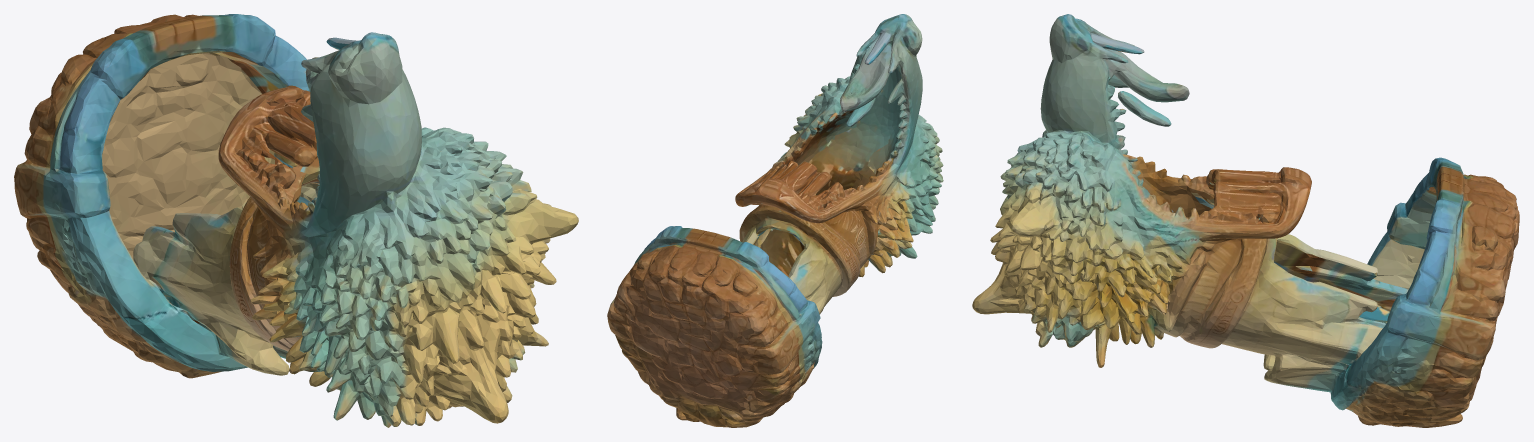
Rendered from wolf-of-winter-ashtray-fierce.glb.
3 renders of one model, left to right at view 1: azimuth 30°, elevation 25°; view 2: azimuth 150°, elevation 25°; view 3: azimuth 270°, elevation 25°, orthographic. The views are drawn at different scales.
Visible parts, largest first — view 1: wolf of winter ashtray fierce_textured.obj; view 2: wolf of winter ashtray fierce_textured.obj; view 3: wolf of winter ashtray fierce_textured.obj.
Part boxes in pixels (x1,y1,x2,y2): wolf of winter ashtray fierce_textured.obj: (14, 14, 578, 427); wolf of winter ashtray fierce_textured.obj: (607, 14, 943, 427); wolf of winter ashtray fierce_textured.obj: (972, 14, 1519, 427).
Size of the model in its own units: 0.9158 by 1.52 by 1.99.
Materials: 1 (1 with a texture image).
